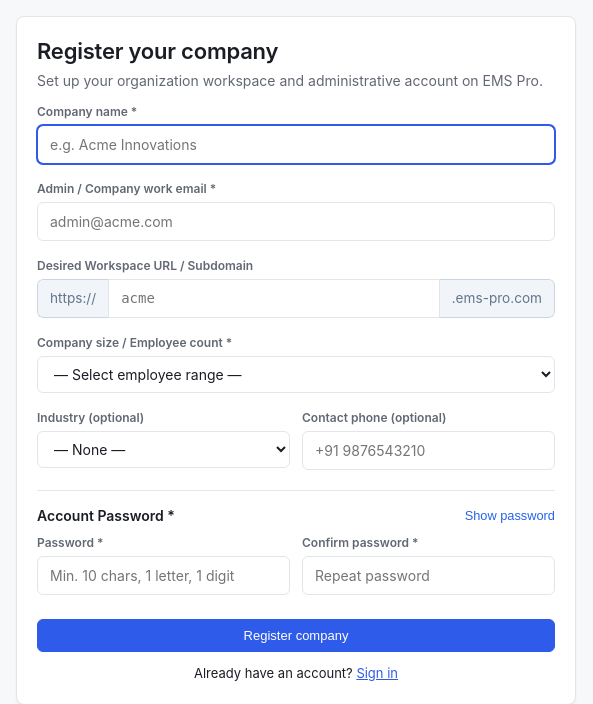
Scenario: Sub-feature 1.2: RegisterCompanyPage › renders success confirmation view upon successful registration
The width and height of the screenshot is (593, 704).
Type "Acme Global" into the field labelled "Company name *". click: [296, 144]
box: [37, 125, 555, 164]
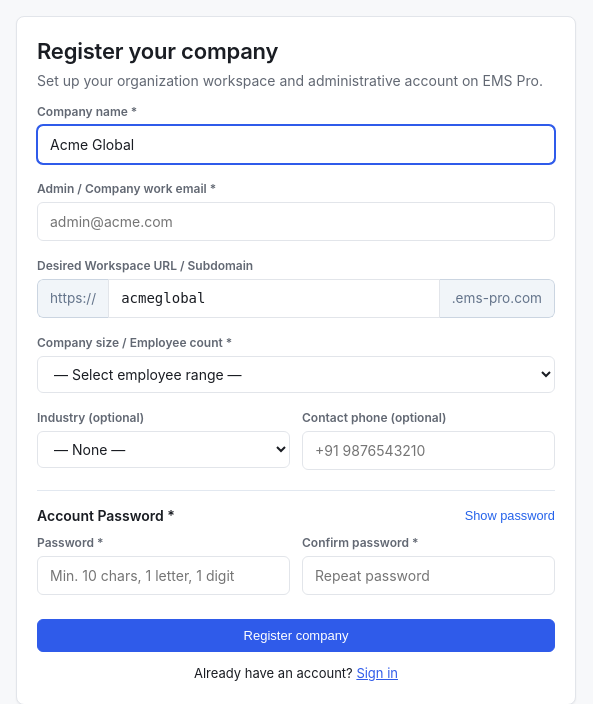
Type "admin@acmeglobal.com" into the field labelled "Admin / Company work email *". click: [296, 221]
box: [37, 202, 555, 241]
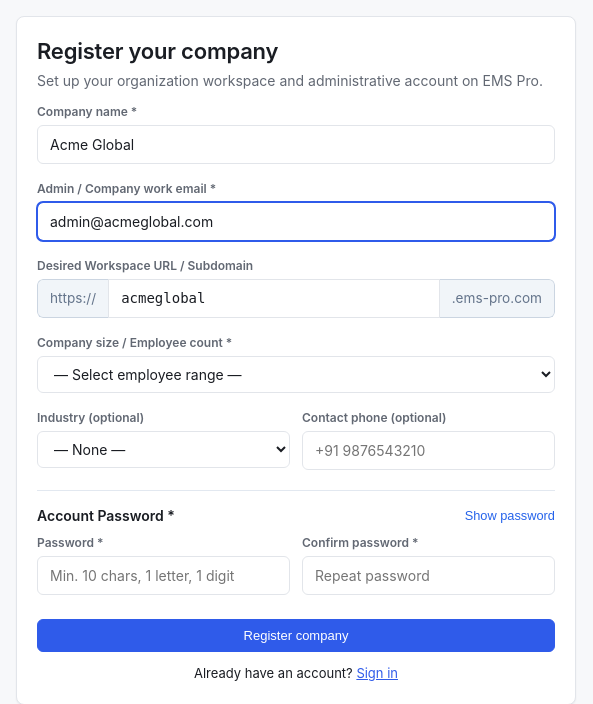
Select "1-10 employees (Startup / Early stage)" in the dropdown labelled "Company size / Employee count *". click: [296, 374]
box: [37, 356, 555, 393]
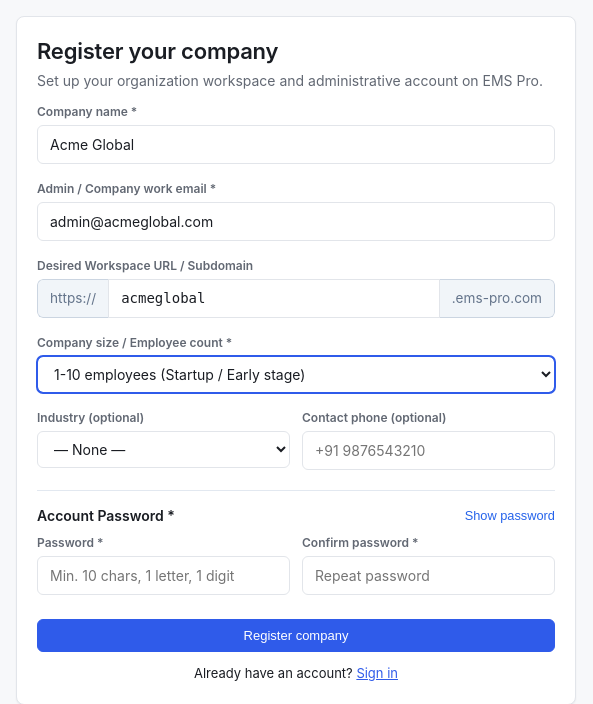
Type "SecurePass123!" into the password field labelled "Password *". click: [164, 575]
box: [37, 556, 290, 595]
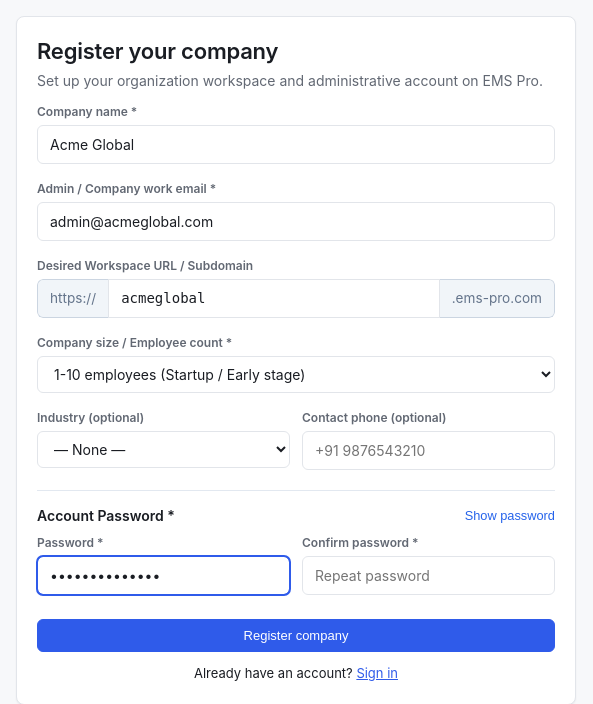
Type "SecurePass123!" into the password field labelled "Confirm password *". click: [428, 575]
box: [302, 556, 555, 595]
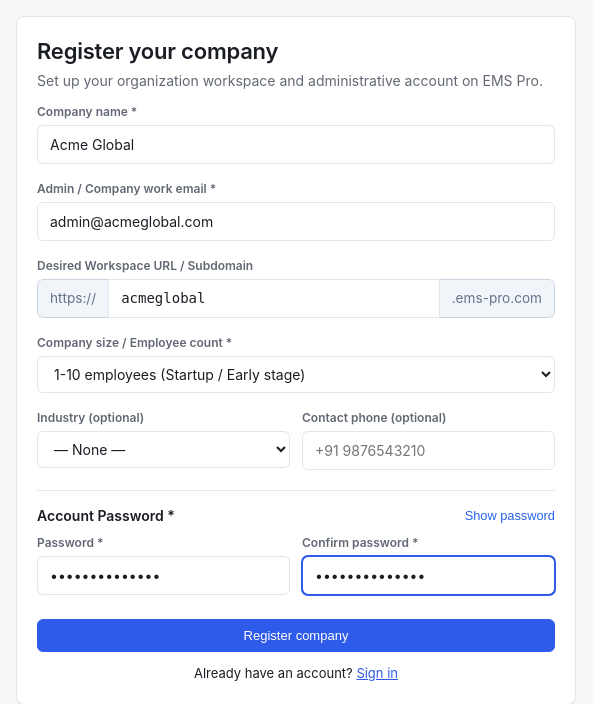
Click the button "Register company". click: [296, 635]
box: [37, 619, 555, 652]
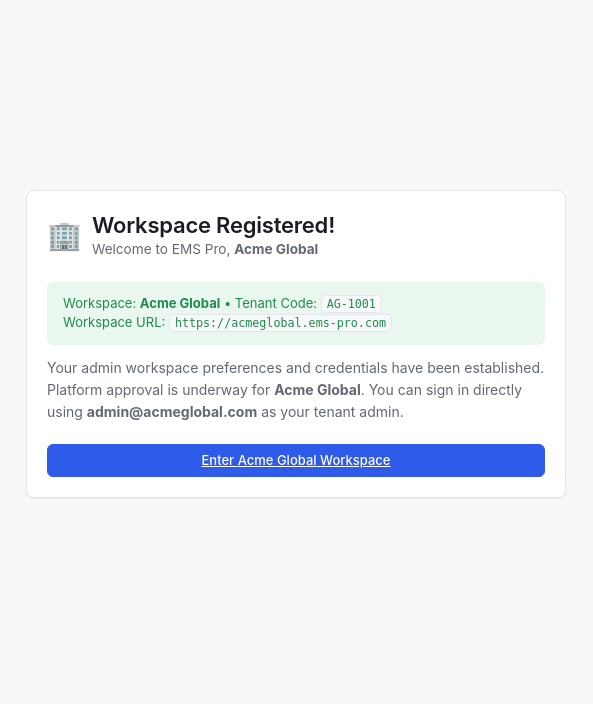
Check: the heading "Workspace Registered!" is shown, box [92, 211, 335, 239]
Check: the text "AG-1001" is shown, box [321, 295, 382, 313]
Check: the text "https://acmeglobal.ems-pro.com" is shown, box [169, 314, 392, 332]
